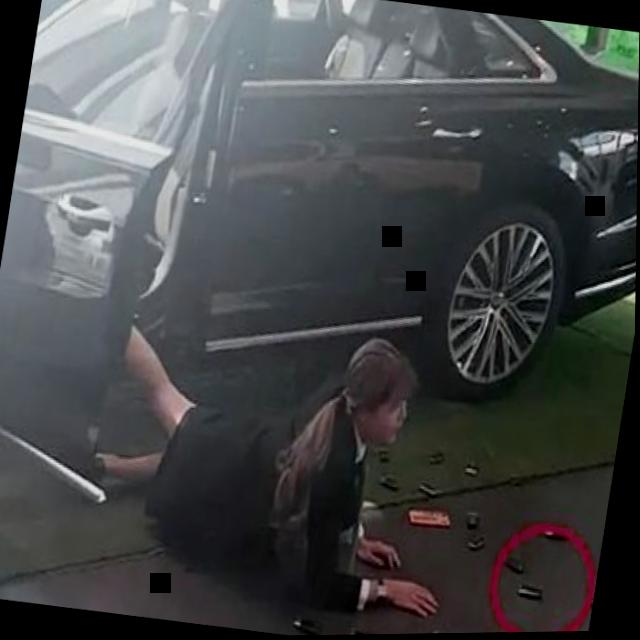Fall-Detected: (42, 262, 508, 639)
